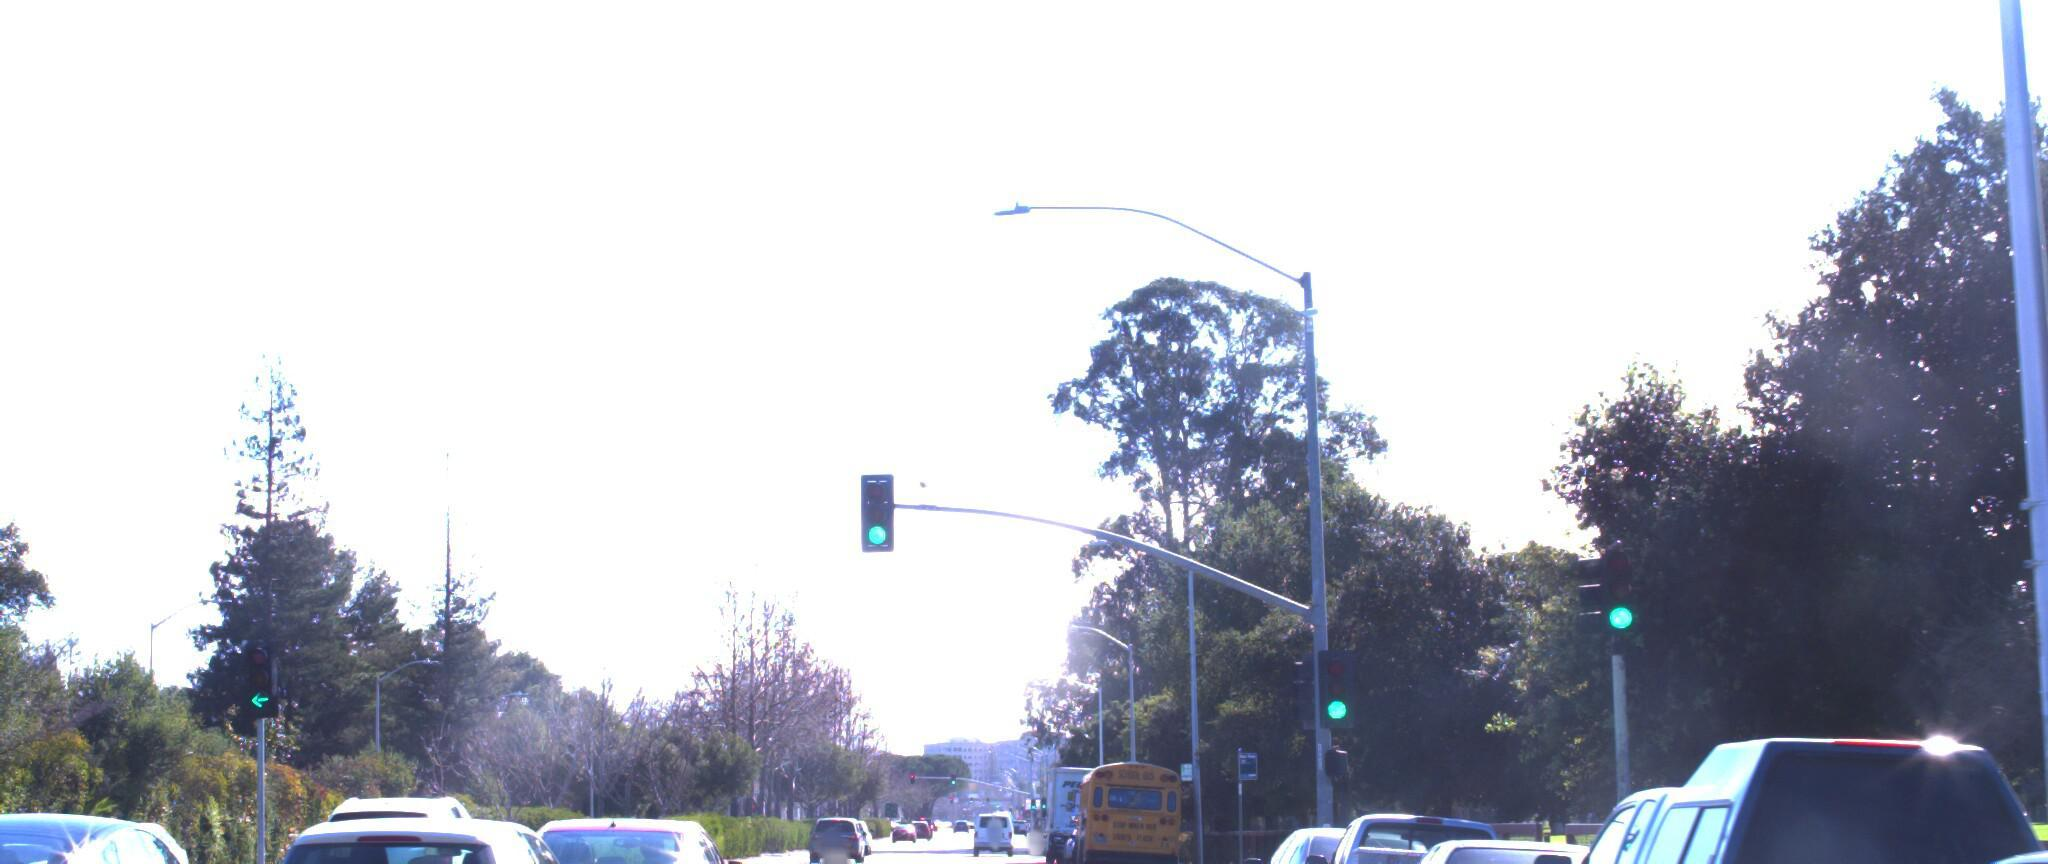bus: (1079, 730, 1195, 864)
car: (1486, 713, 2048, 864), (225, 774, 630, 864), (280, 750, 520, 864), (0, 774, 253, 864), (472, 792, 763, 864), (1296, 788, 1570, 864), (1223, 796, 1482, 864), (1349, 813, 1688, 864), (1672, 820, 2048, 864)
